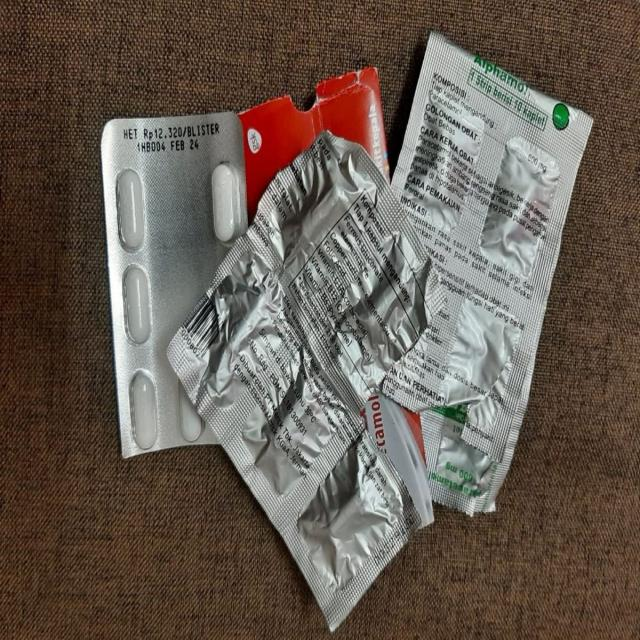b3: (84, 27, 550, 575), (105, 131, 250, 340)
